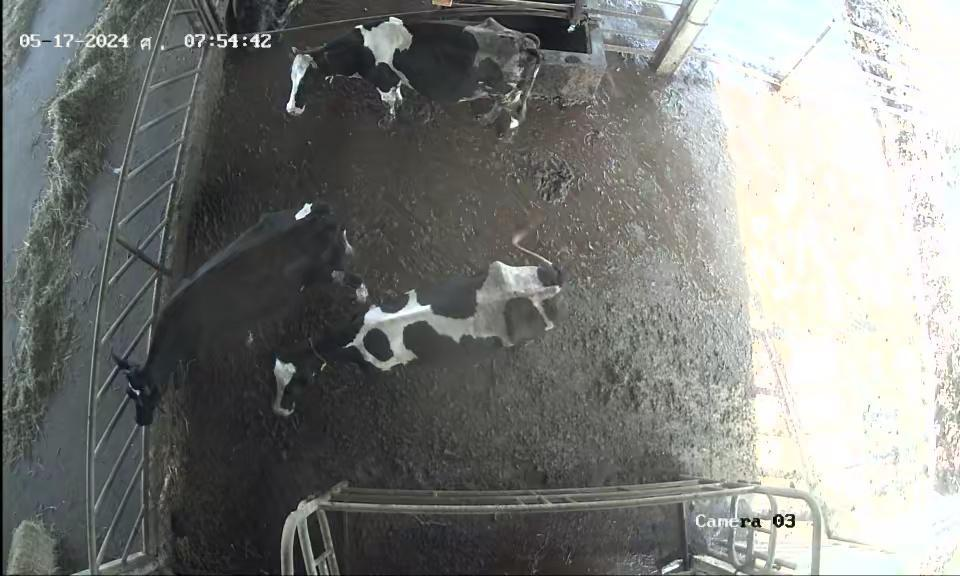stand: (260, 248, 585, 453), (103, 184, 358, 440), (280, 7, 546, 161)
